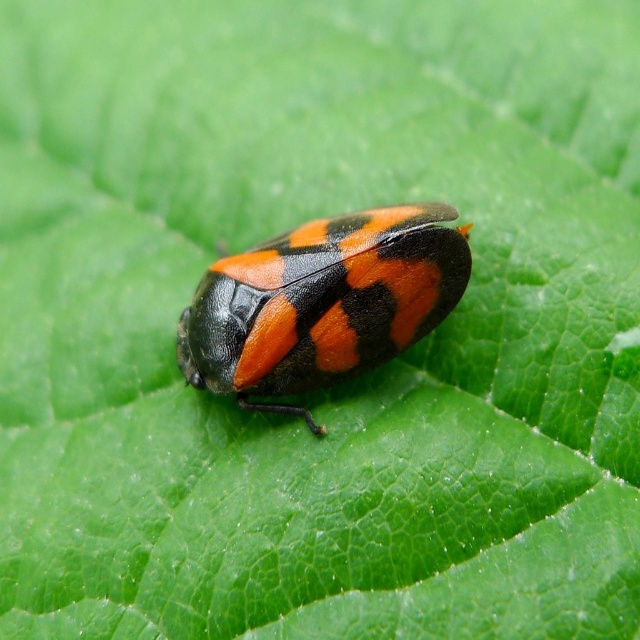Ladybug: (174, 202, 474, 432)
